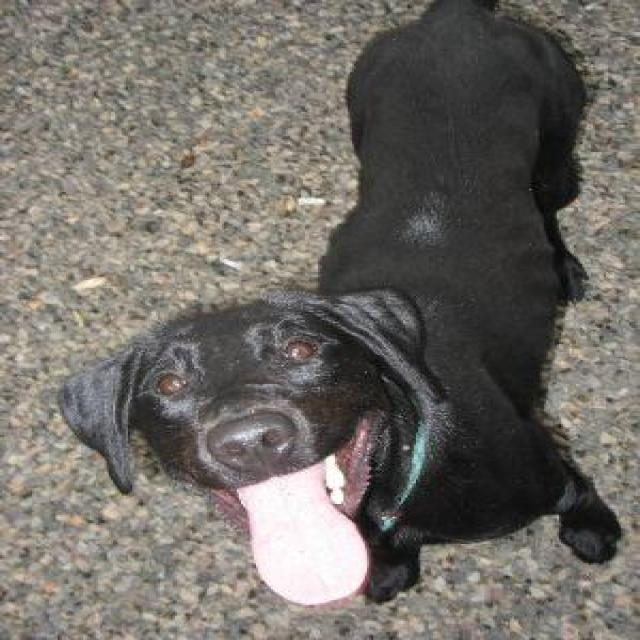happy: (39, 193, 553, 640)
